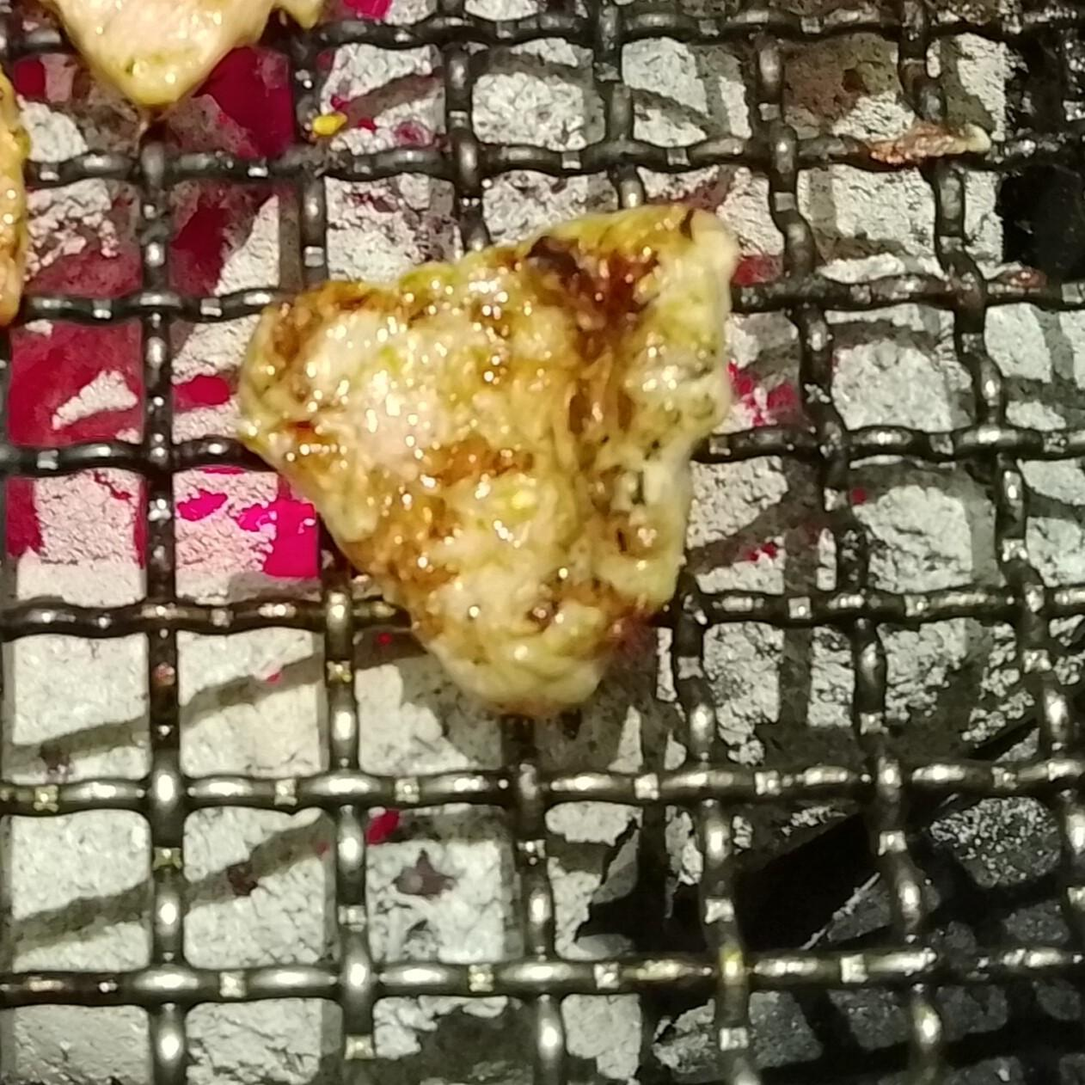Well-Cooked: (235, 201, 738, 722), (31, 0, 331, 120)
